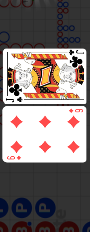6D: (67, 108, 84, 114)
JC: (67, 49, 84, 56)
